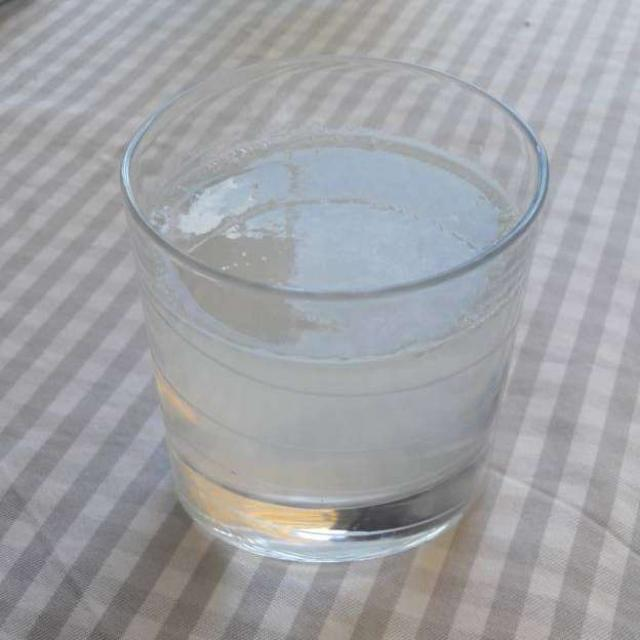water-with-lemon-juice: (146, 139, 525, 506), (148, 143, 523, 511)
